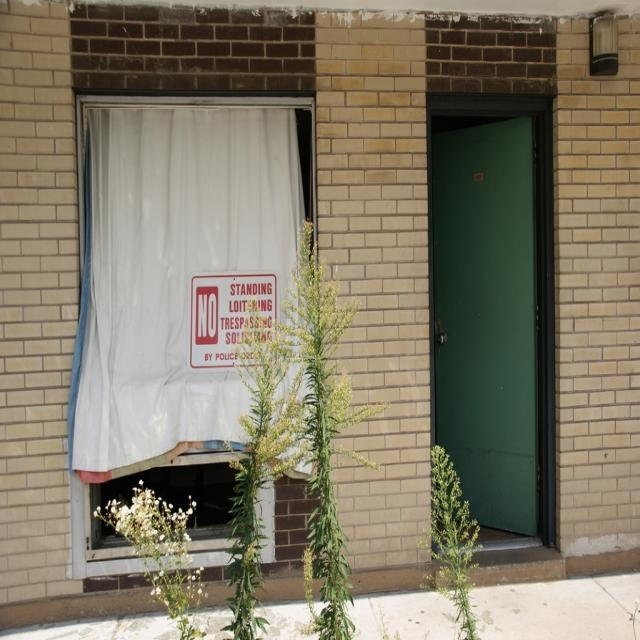door: (422, 91, 556, 556)
